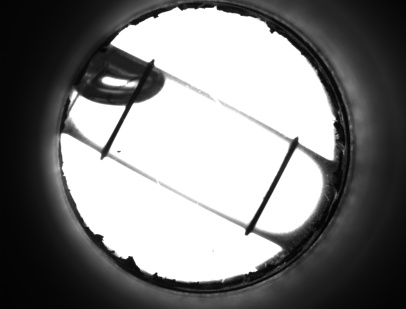line: (249, 157, 294, 217), (103, 112, 131, 142)
